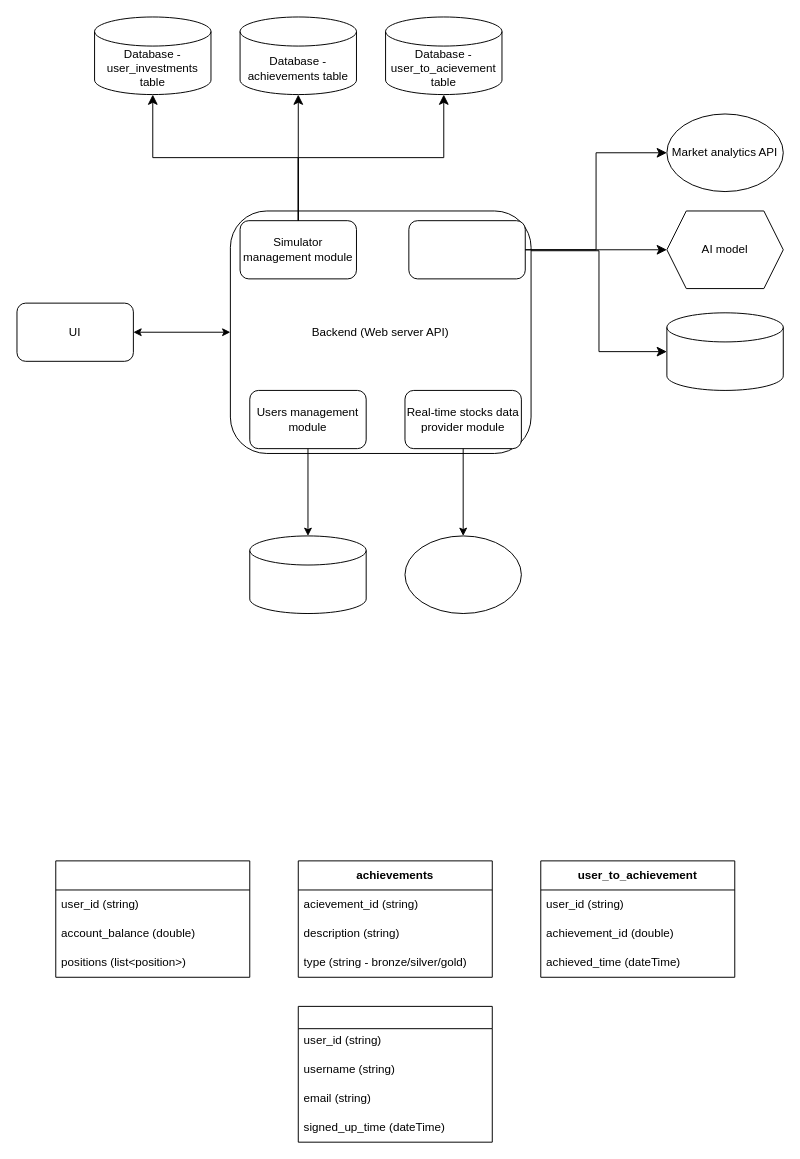
The diagram is 800 pixels wide and 1159 high, and some of its shapes have lost their labels. Here are the shapes that lost their labels. From the top down, the box of each, then its label:
(408, 220, 525, 279): Investment advisor gateway module
(666, 312, 783, 390): Database - user_analytic_data table
(249, 535, 366, 614): Database - user_data table
(404, 535, 521, 614): Real-time stock market API
(55, 860, 250, 977): user_investment_status
(297, 1005, 492, 1142): user_data
